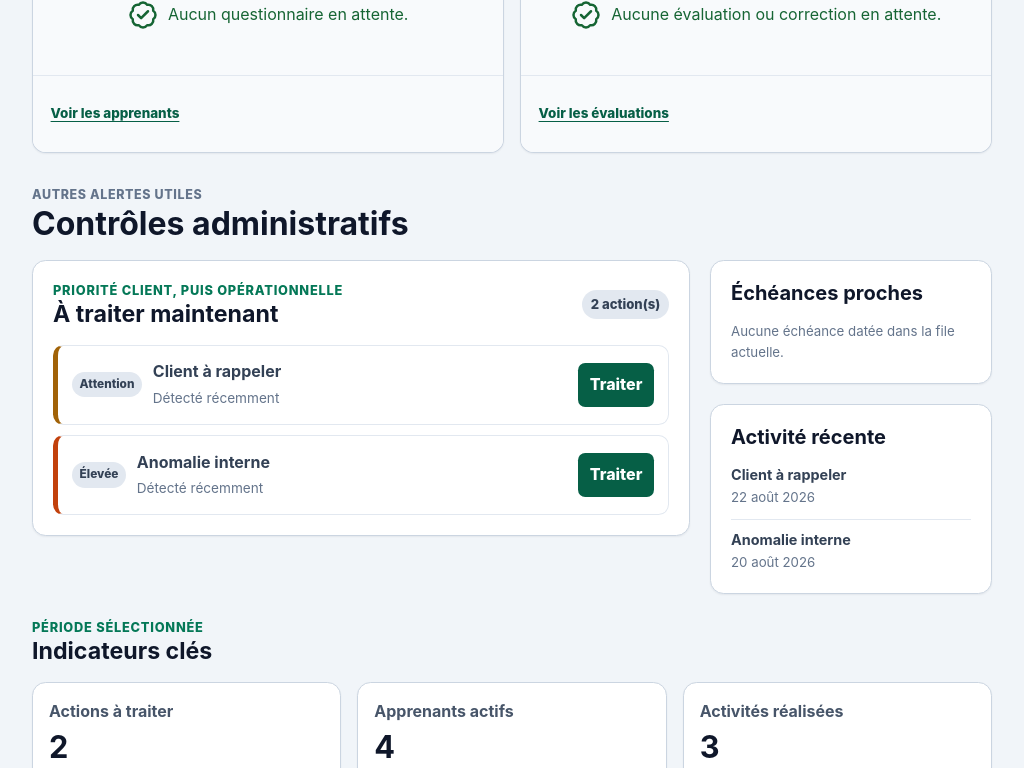
Test: AdminCockpit › place les actions client avant la technique et navigue vers l’écran existant
This screenshot has width=1024, height=768.
(page scrolled)
Click the link "Traiter" in the row of "Attention" at (616, 385), box [578,363,654,407]
(page scrolled)
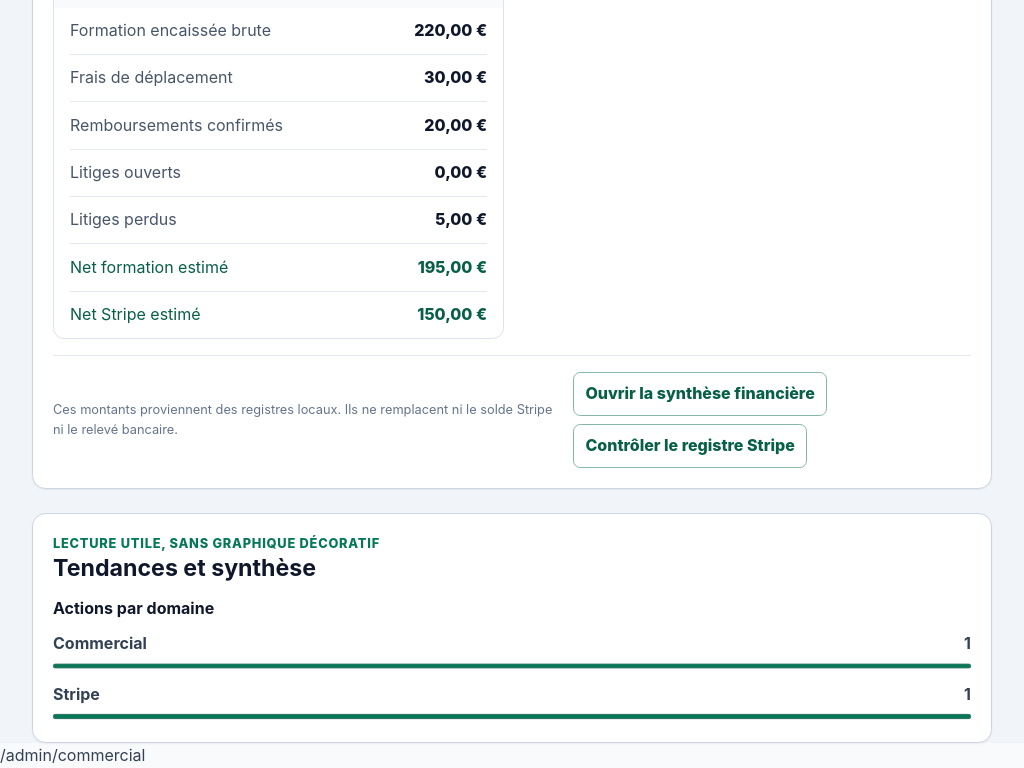
Expected: the text named "route active" reads "/admin/commercial", [0,745,145,765]
